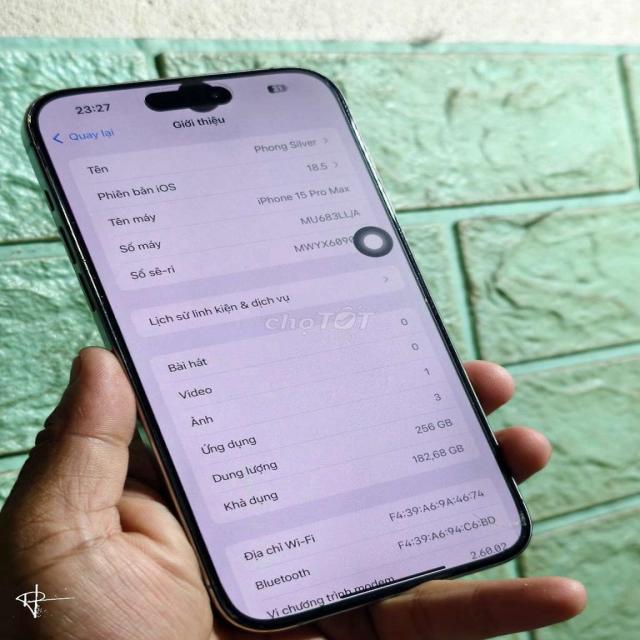gen_15: (14, 64, 558, 632)
